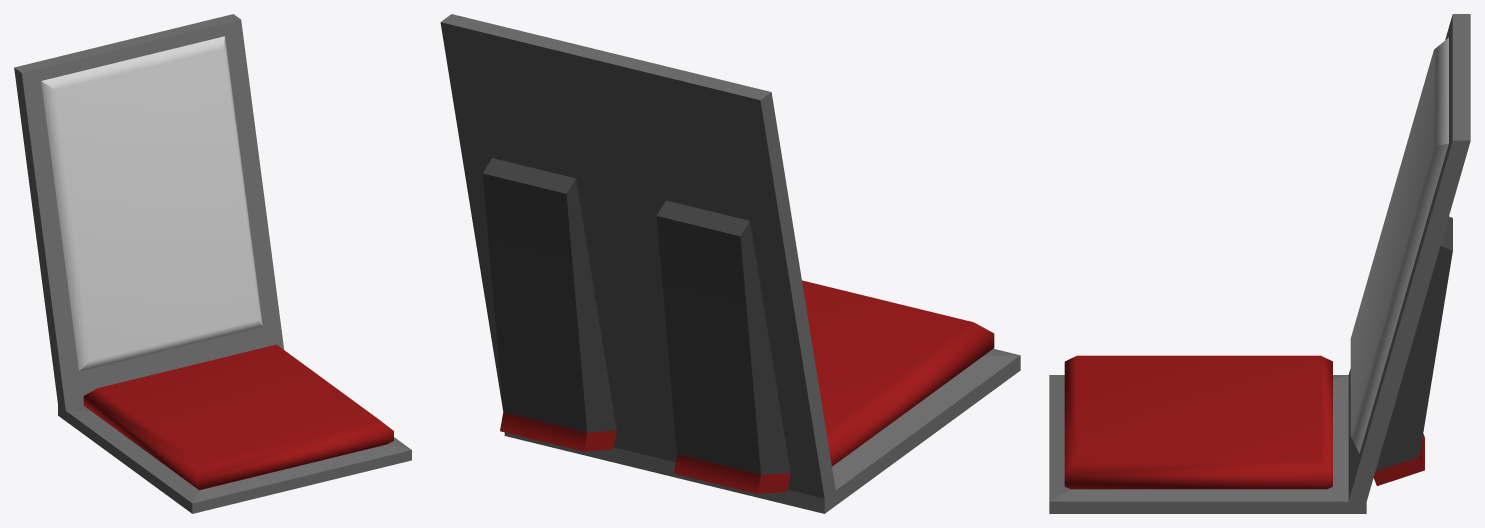
The model's file is Ejection Seat.fbx.
3 renders of one model, left to right at view 1: azimuth 30°, elevation 25°; view 2: azimuth 150°, elevation 25°; view 3: azimuth 270°, elevation 25°, orthographic. The views are drawn at different scales.
Parts seen in each view (by area): view 1: Ejection_Seat; view 2: Ejection_Seat; view 3: Ejection_Seat.
Boxes of the visible parts, <box> form: Ejection_Seat: <box>14,14,411,513</box>; Ejection_Seat: <box>440,14,1020,513</box>; Ejection_Seat: <box>1049,14,1470,513</box>.
Bounding box in the file's own units: 1.04 × 1.43 × 1.47.
